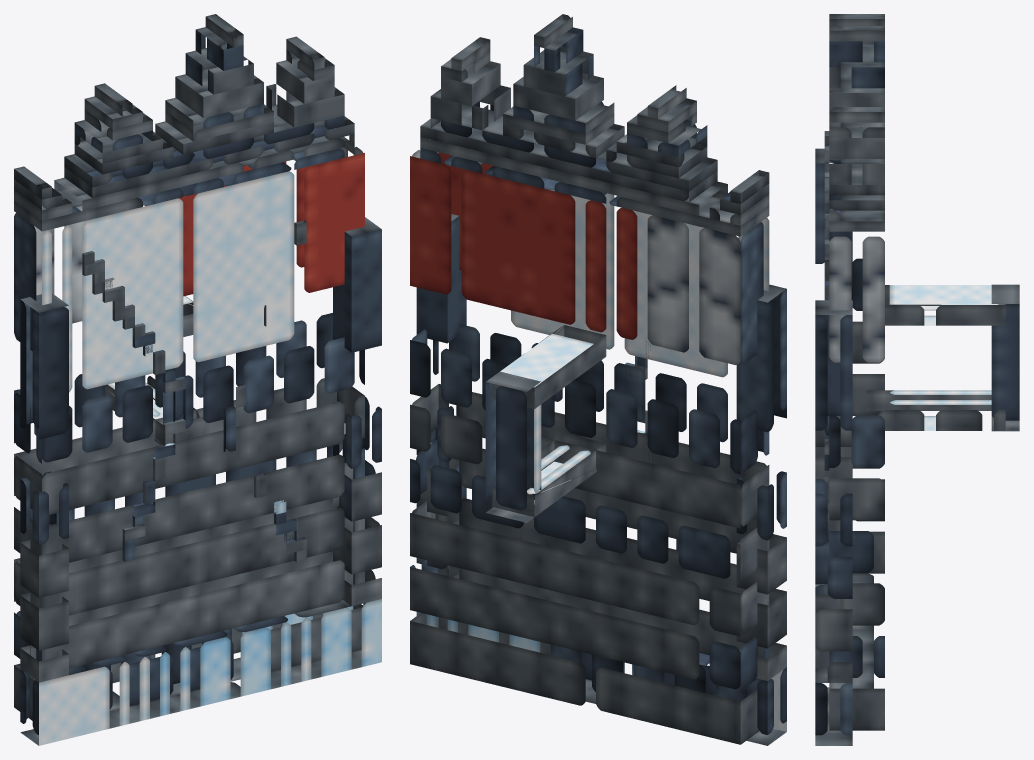
The model's file is glacier_tower.obj.
The picture shows the model from 3 angles, left to right: view 1: azimuth 30°, elevation 25°; view 2: azimuth 150°, elevation 25°; view 3: azimuth 270°, elevation 25°; orthographic projection. The views are drawn at different scales.
Visible parts, largest first — view 1: lit; view 2: lit; view 3: lit.
Boxes of the visible parts, box(x1,y1,x2,y2) form: lit: box(14, 14, 381, 745); lit: box(410, 14, 786, 745); lit: box(815, 14, 1019, 745).
Bounding box in the file's own units: 1.06 × 1.94 × 0.55.
